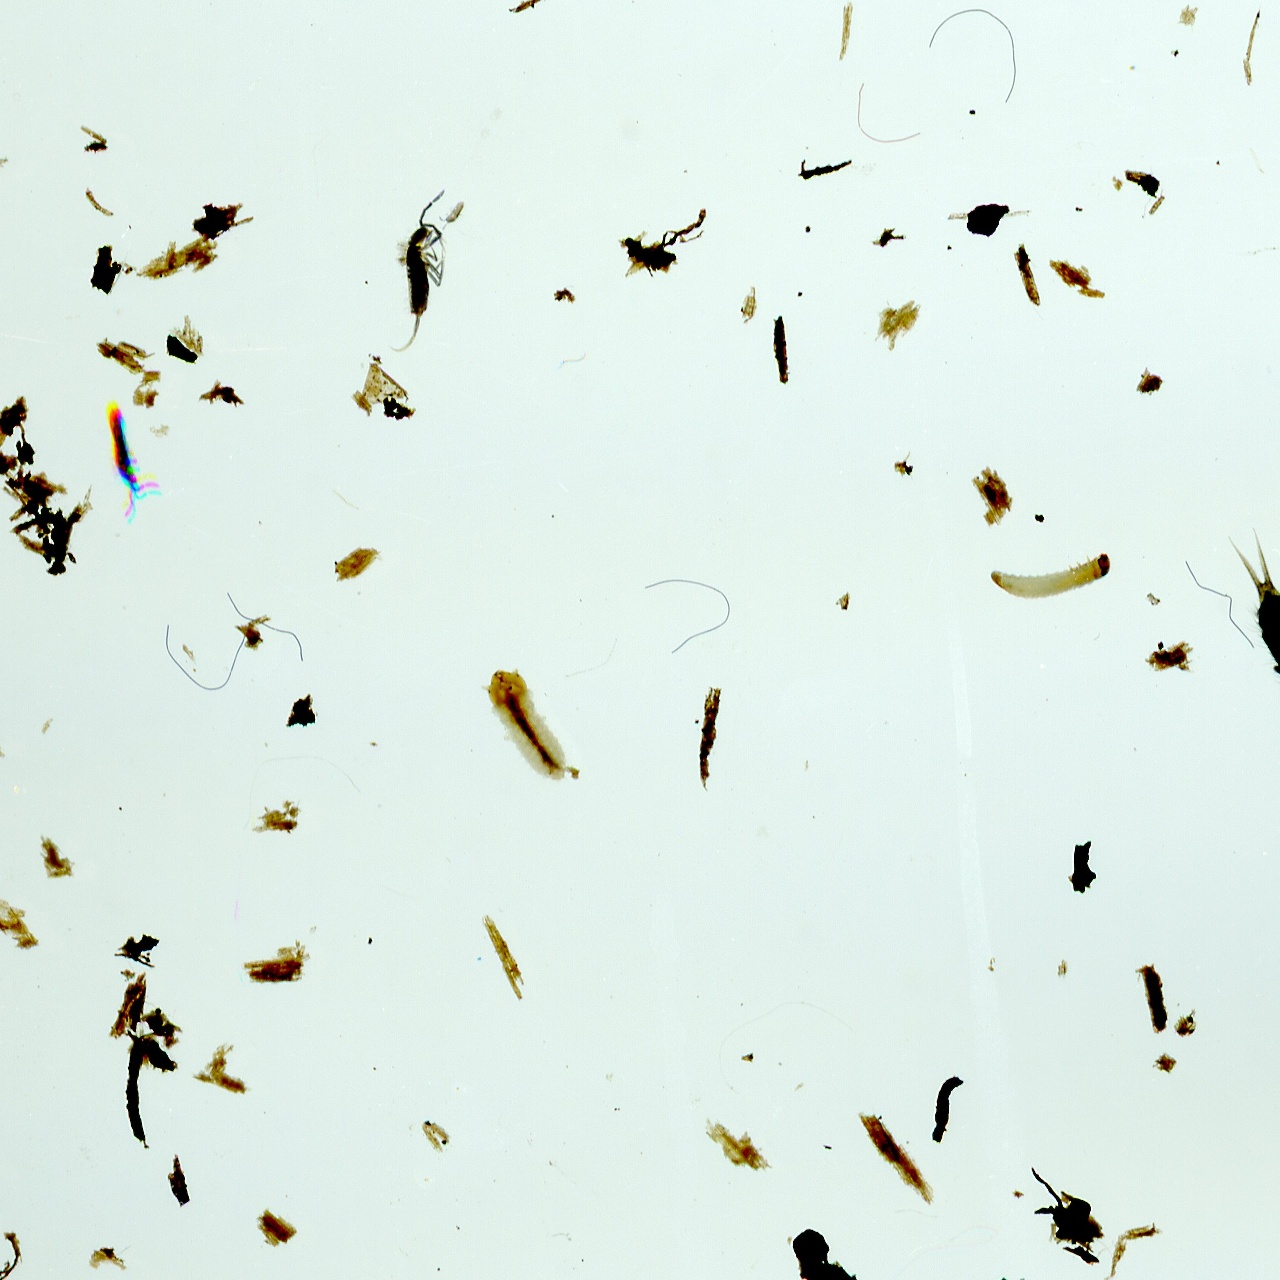arthropod: (1174, 503, 1280, 778), (465, 651, 586, 804), (86, 386, 171, 527), (384, 187, 446, 357), (986, 552, 1113, 604), (436, 194, 469, 234)
